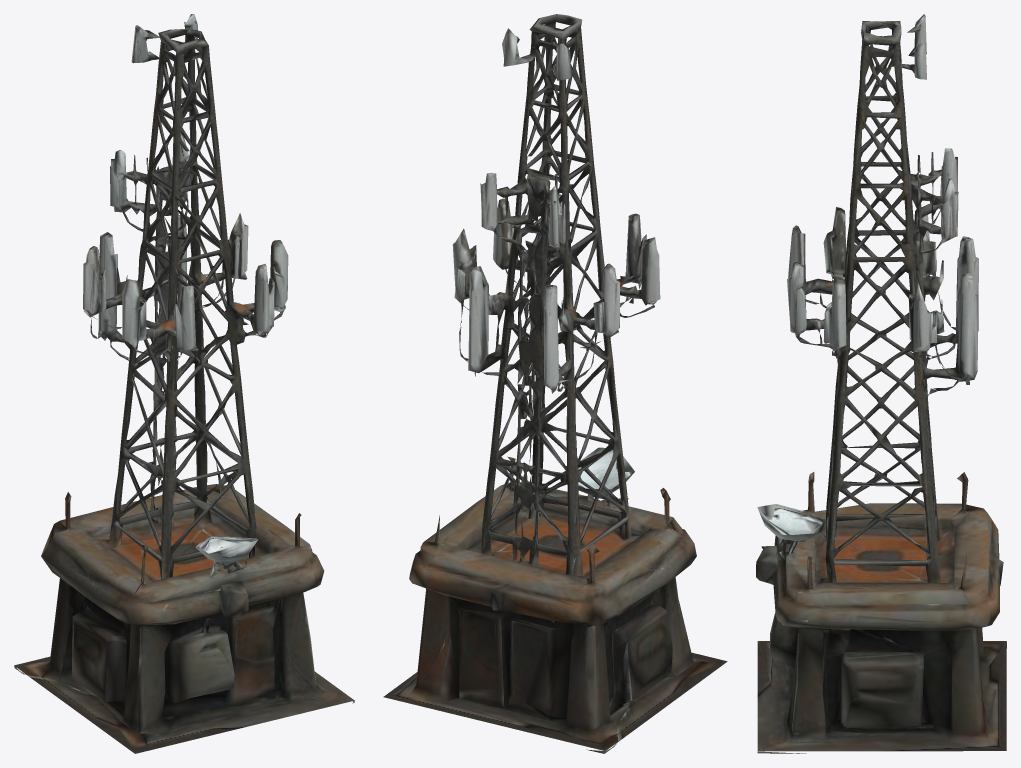
Rendered from p_comm_tower.glb.
3 views of the same model, side by side, from view 1: azimuth 30°, elevation 25°; view 2: azimuth 150°, elevation 25°; view 3: azimuth 270°, elevation 25° (orthographic). The views are drawn at different scales.
Size of the model in its own units: 0.6693 by 1.9 by 0.6424.
1 material, 1 textured.
